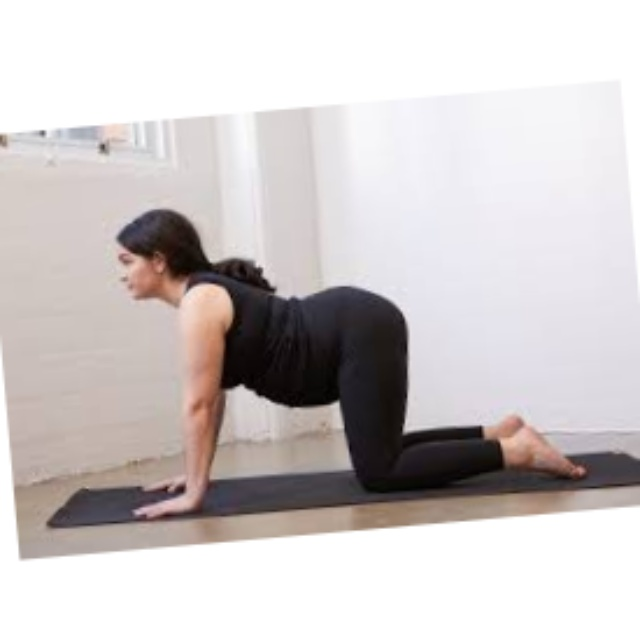Cow_Pose: (112, 205, 591, 525)
